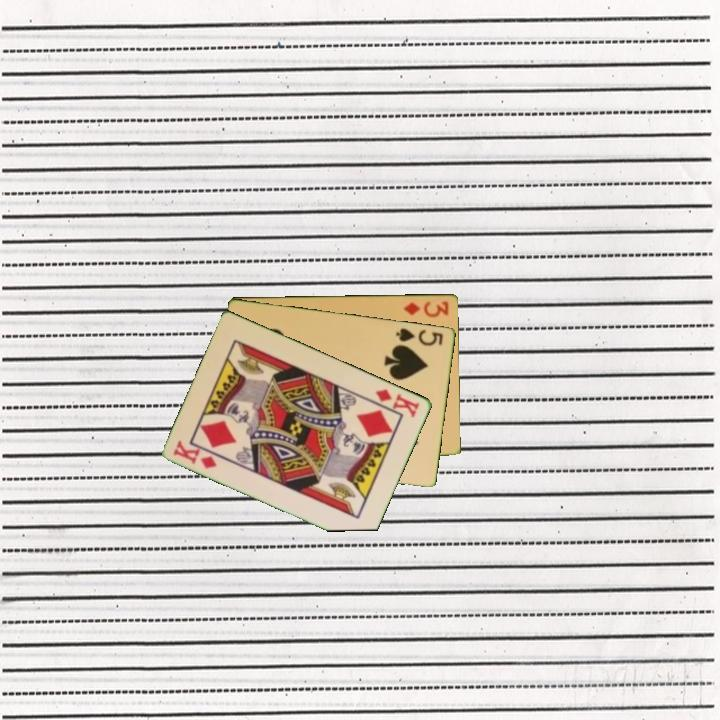3d: (400, 297, 452, 319)
5s: (393, 324, 446, 349)
Kd: (372, 385, 423, 420), (170, 437, 220, 472)
